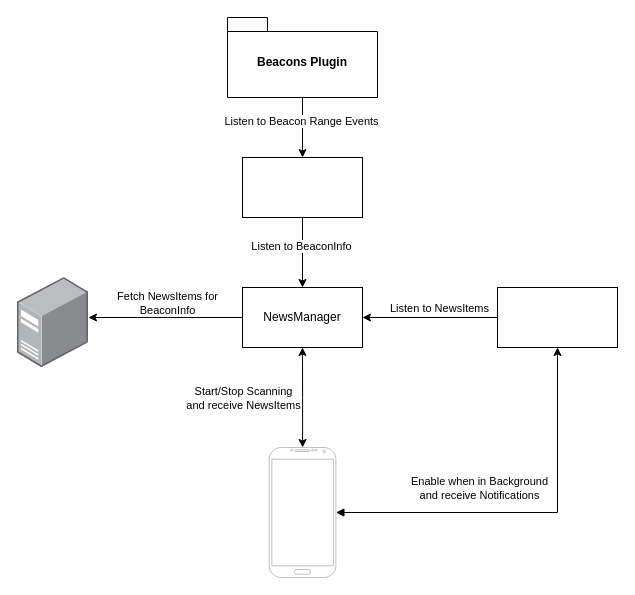
This 635x595 diagram has some shape labels left out. The centre of each missing label's shape, as x and y in pixels:
"BeaconManager" belongs at point 302,187.
"NotificationManager" belongs at point 557,317.
